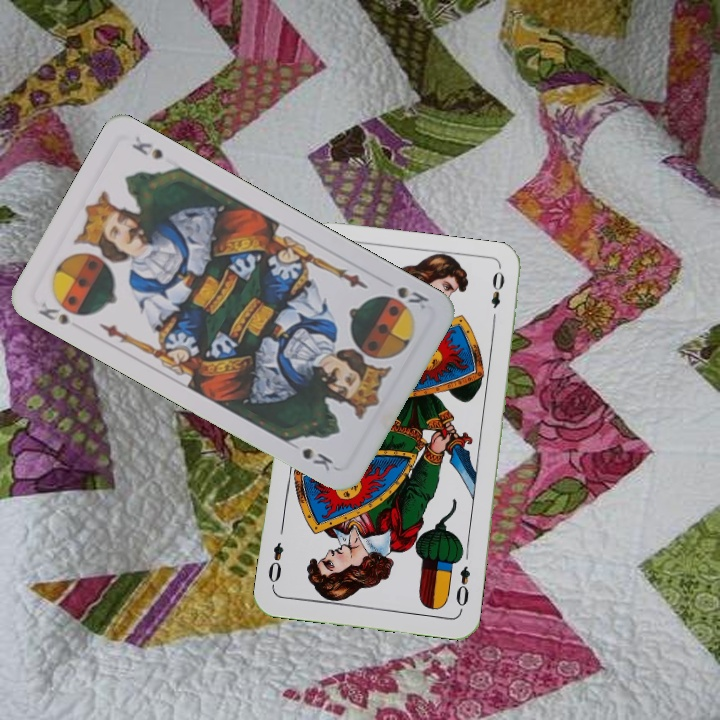EO: (452, 562, 473, 614)
SK: (34, 297, 74, 328), (393, 282, 432, 313)
